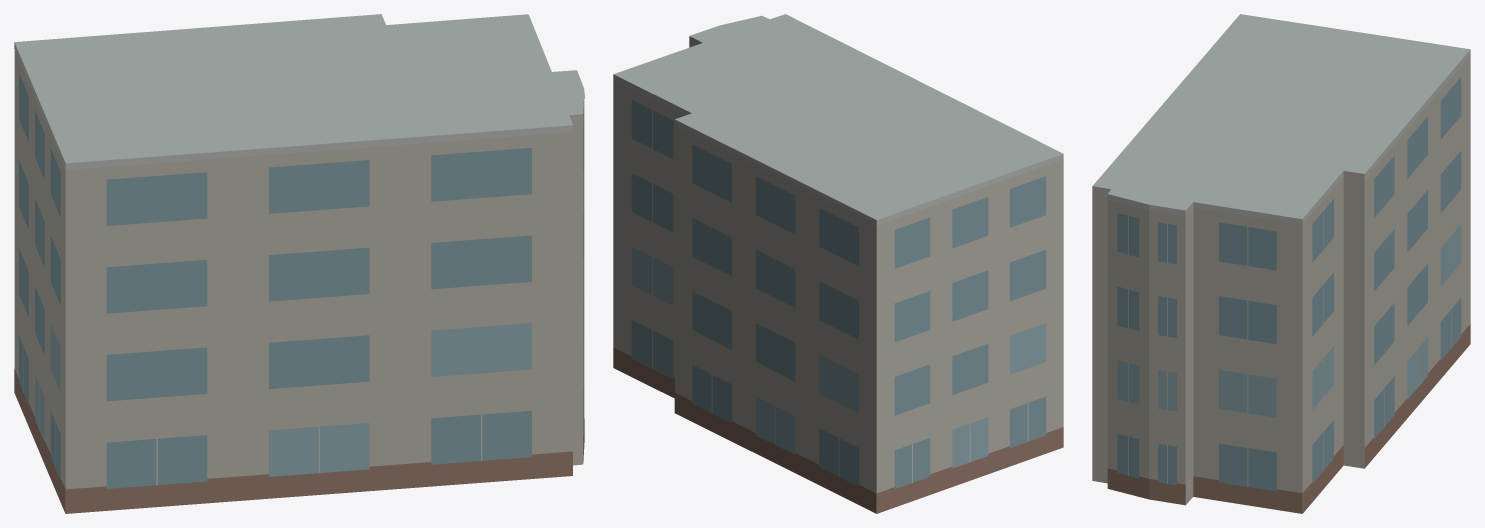
Rendered from survey-upis-32671762.glb.
3 views of the same model, side by side, from view 1: azimuth 30°, elevation 25°; view 2: azimuth 150°, elevation 25°; view 3: azimuth 270°, elevation 25° (orthographic). The views are drawn at different scales.
Visible parts, largest first — view 1: survey-upis-32671762.tmp; view 2: survey-upis-32671762.tmp; view 3: survey-upis-32671762.tmp.
Boxes of the visible parts, x1,y1,x2,y2 form: survey-upis-32671762.tmp: (14, 14, 584, 513); survey-upis-32671762.tmp: (613, 14, 1063, 513); survey-upis-32671762.tmp: (1092, 14, 1470, 513).
Size of the model in its own units: 19.27 by 12.9 by 15.01.
